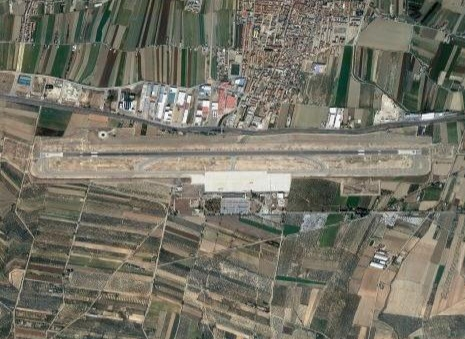airport: (29, 146, 433, 214)
industrial: (138, 83, 194, 121)
motorway: (201, 120, 267, 143), (269, 119, 335, 142), (336, 117, 402, 140), (403, 112, 465, 134), (147, 116, 200, 135), (49, 96, 98, 116), (99, 108, 148, 128), (1, 91, 49, 111)
